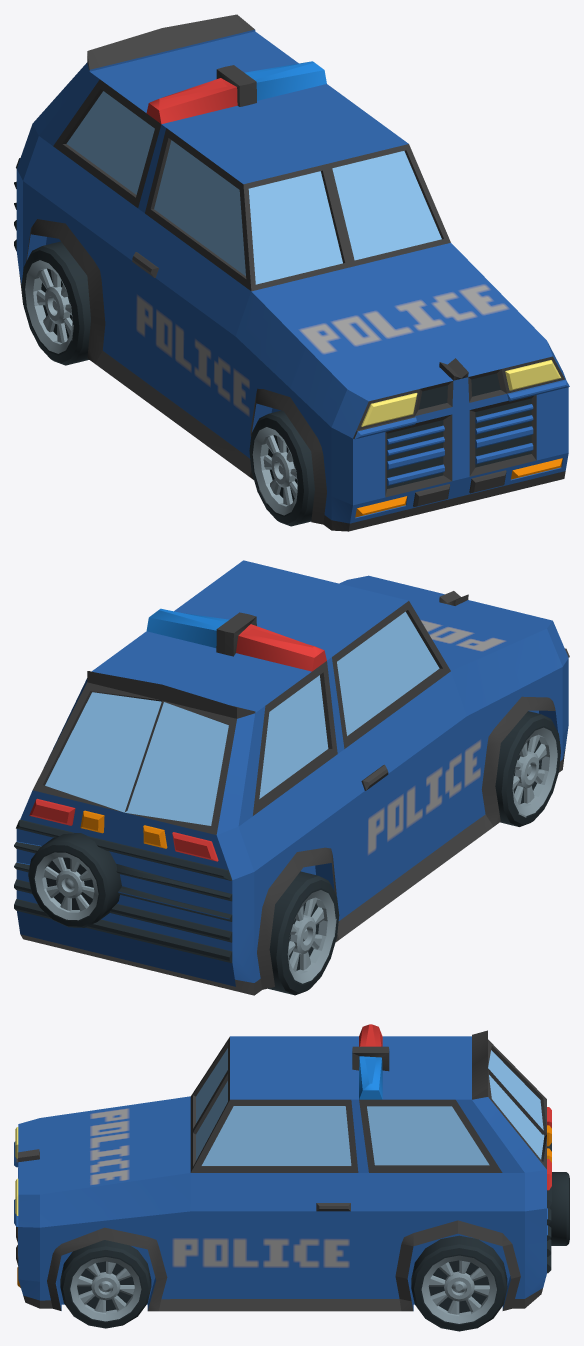
The model's file is PoliceJeep.fbx.
The picture shows the model from 3 angles, top to bottom: view 1: azimuth 30°, elevation 25°; view 2: azimuth 150°, elevation 25°; view 3: azimuth 270°, elevation 25°; orthographic projection. The views are drawn at different scales.
Visible parts, largest first — view 1: PoliceJeep, PoliceJeepWheelBackR, PoliceJeepWheelFrontR; view 2: PoliceJeep, PoliceJeepWheelBackR, PoliceJeepWheelFrontR; view 3: PoliceJeep, PoliceJeepWheelBackL, PoliceJeepWheelFrontL.
Boxes of the visible parts, left/top/right/bottom form: PoliceJeep: left=14, top=14, right=569, bottom=531; PoliceJeepWheelBackR: left=21, top=241, right=90, bottom=365; PoliceJeepWheelFrontR: left=249, top=410, right=314, bottom=526; PoliceJeep: left=14, top=560, right=569, bottom=995; PoliceJeepWheelBackR: left=268, top=871, right=339, bottom=995; PoliceJeepWheelFrontR: left=495, top=711, right=560, bottom=826; PoliceJeep: left=14, top=1024, right=569, bottom=1311; PoliceJeepWheelBackL: left=411, top=1235, right=507, bottom=1331; PoliceJeepWheelFrontL: left=60, top=1240, right=151, bottom=1328.
Size of the model in its own units: 5.17 by 5.55 by 12.01.
